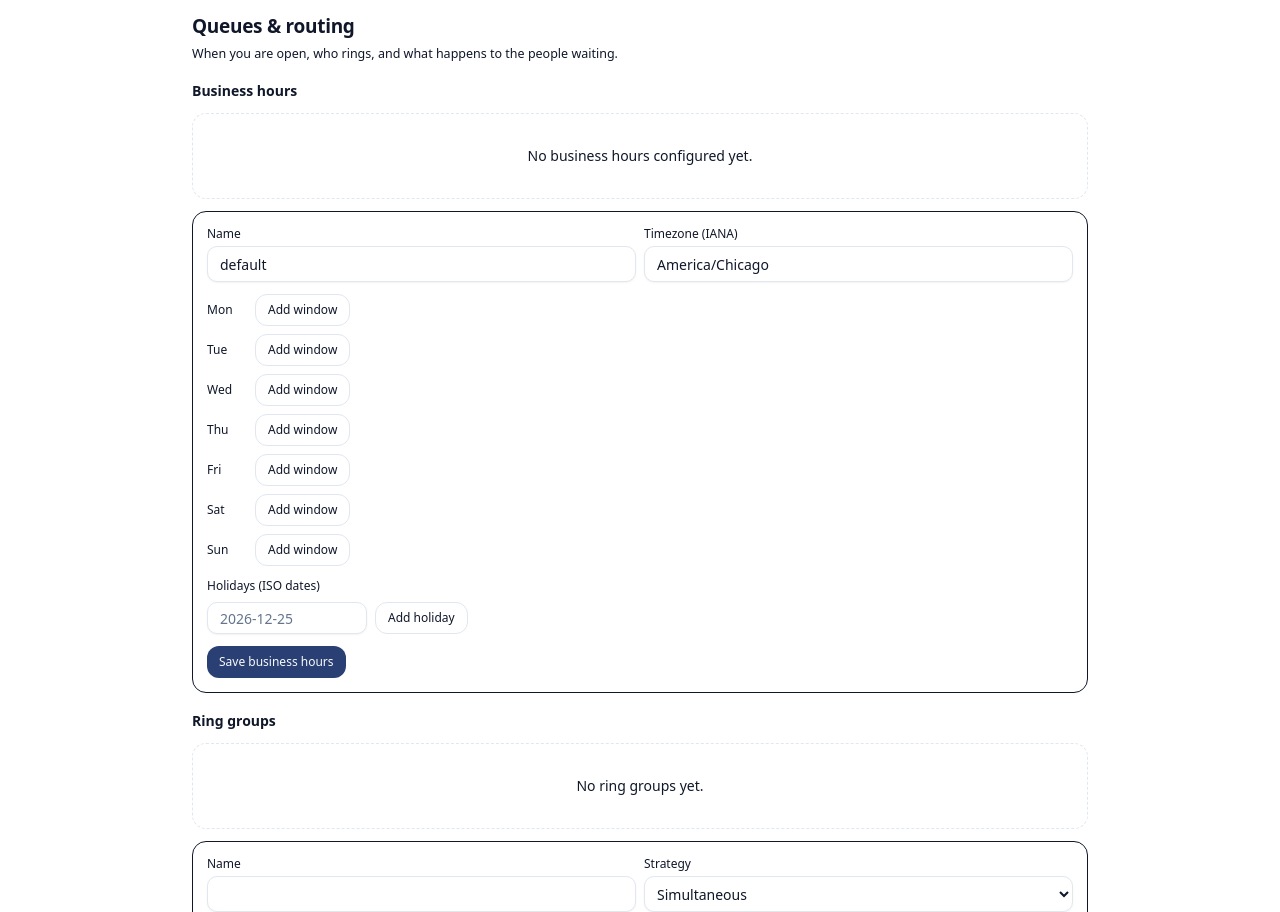
Test: QueuesPage › resets the business hours form after a successful save
Replace the text in the field named "Business hours name" with "Custom" at (422, 264), box [207,246,636,282]
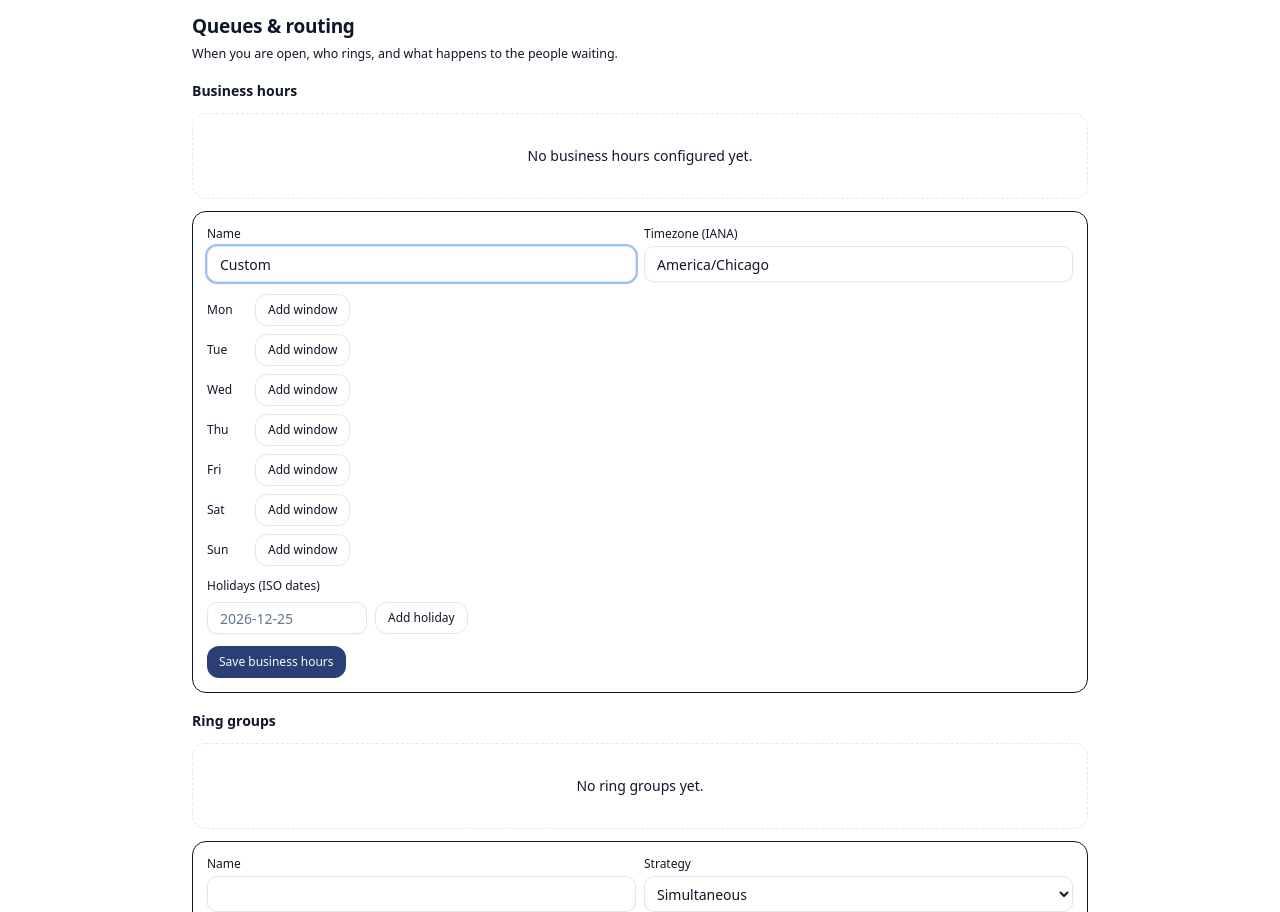
Replace the text in the field labelled "Timezone" with "America/New_York" at (858, 264), box [644,246,1073,282]
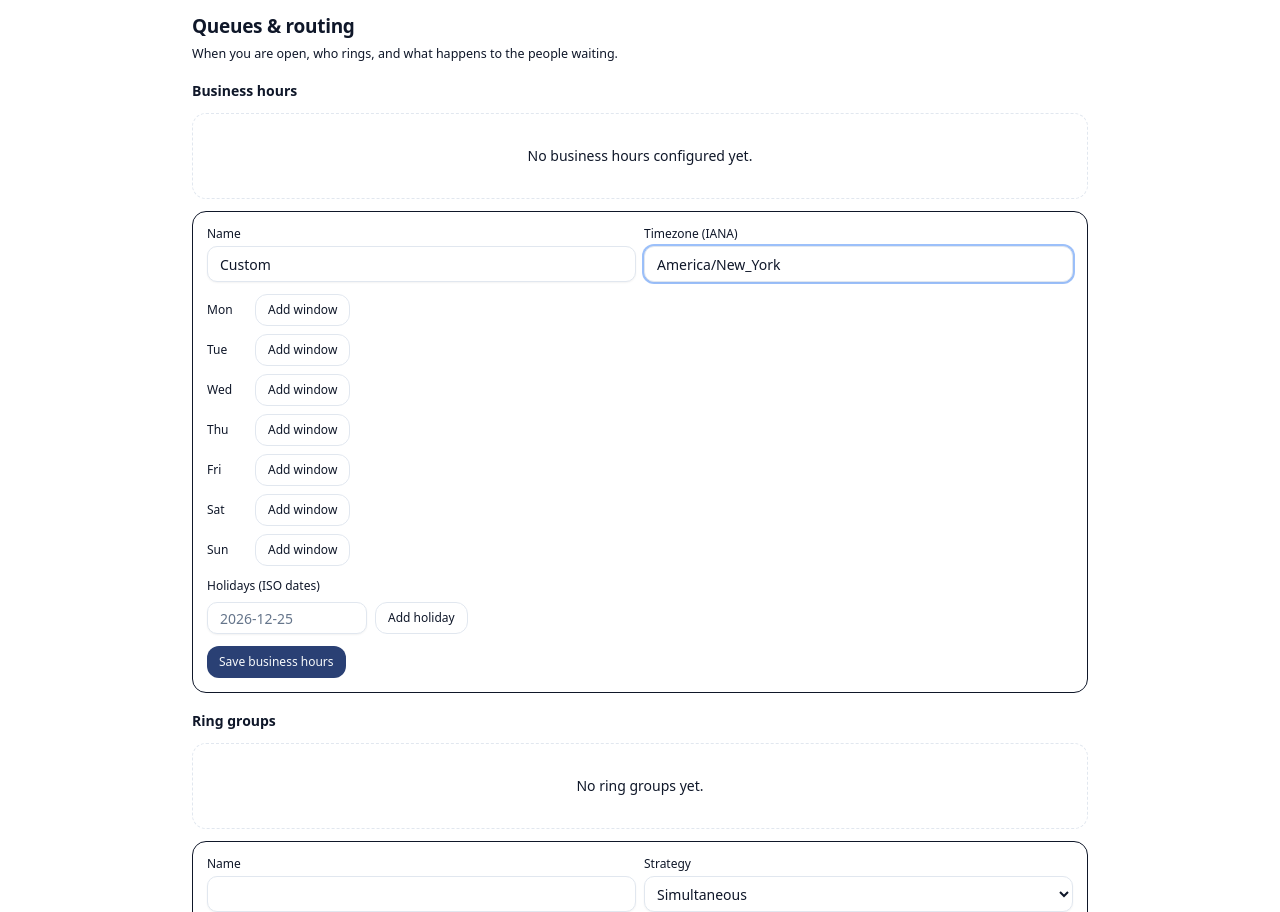
Click the button "Save business hours" at (276, 662), box [207,646,346,678]
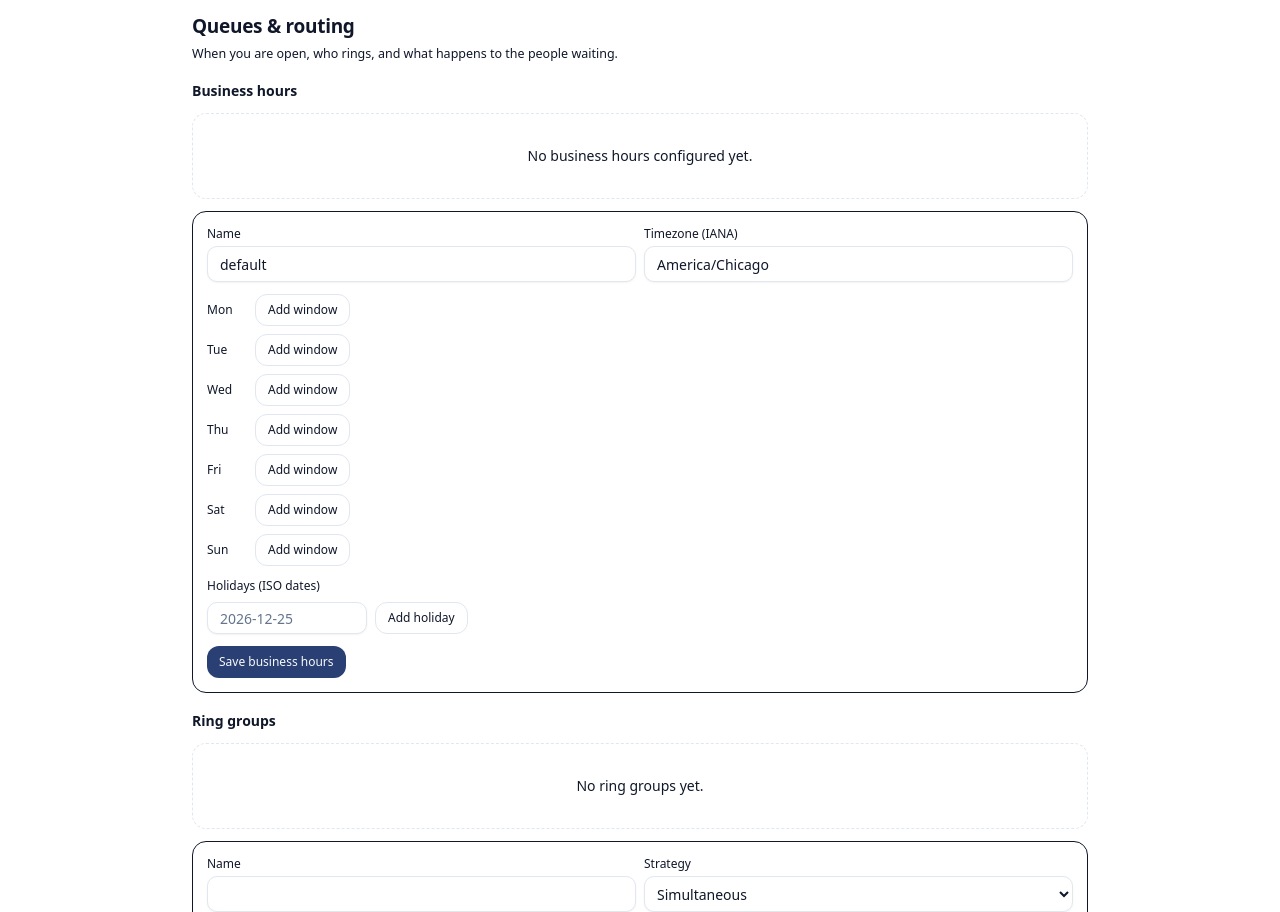
Check: the field named "Business hours name" holds "default", box [207,246,636,282]
Check: the field labelled "Timezone" holds "America/Chicago", box [644,246,1073,282]
